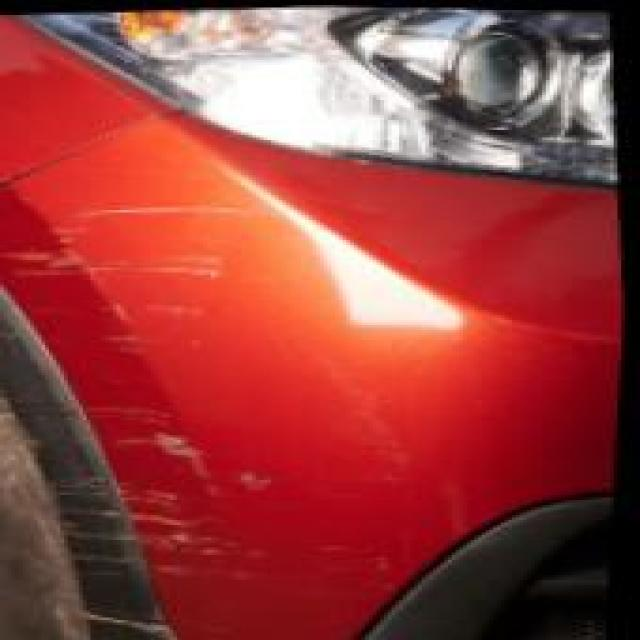Bumper: (0, 148, 389, 640)
